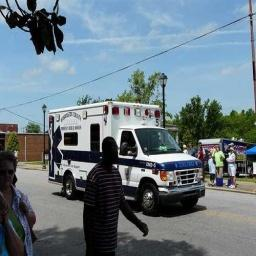ambulance: (49, 101, 204, 214)
